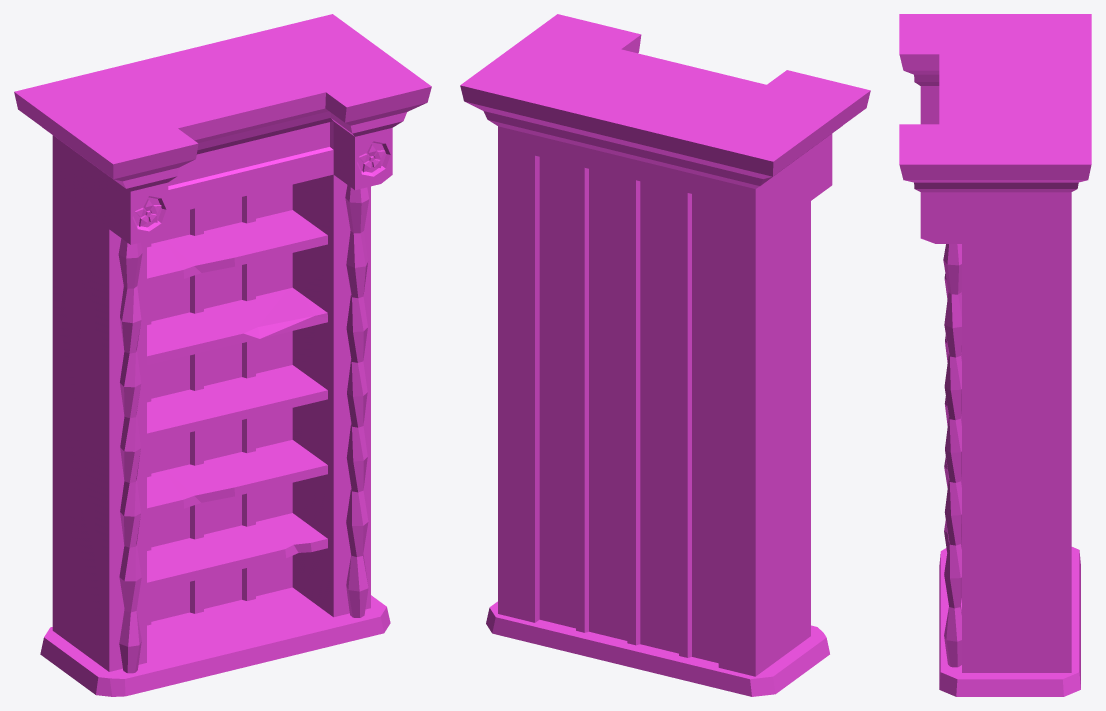
Rendered from SM_Shelf_Standing_Tall_A_Fantasy.fbx.
The picture shows the model from 3 angles, left to right: view 1: azimuth 30°, elevation 25°; view 2: azimuth 150°, elevation 25°; view 3: azimuth 270°, elevation 25°; orthographic projection. The views are drawn at different scales.
Parts seen in each view (by area): view 1: SM_Shelf_Standing_Tall_A_Fantasy; view 2: SM_Shelf_Standing_Tall_A_Fantasy; view 3: SM_Shelf_Standing_Tall_A_Fantasy.
Boxes of the visible parts, bbox=[...] form: SM_Shelf_Standing_Tall_A_Fantasy: bbox=[14, 14, 431, 696]; SM_Shelf_Standing_Tall_A_Fantasy: bbox=[460, 14, 870, 696]; SM_Shelf_Standing_Tall_A_Fantasy: bbox=[899, 14, 1091, 696].
Size of the model in its own units: 1.5 by 2.5 by 0.8086.
